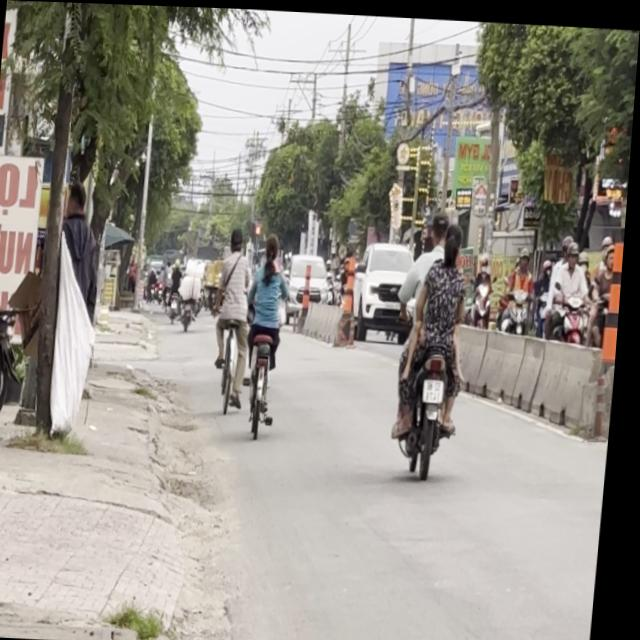licenseplate: (391, 202, 482, 475)
motorcyclist: (431, 202, 454, 245), (445, 215, 466, 255)
nohelmet: (427, 373, 450, 397)
